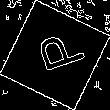P_W: (25, 30, 85, 80)
